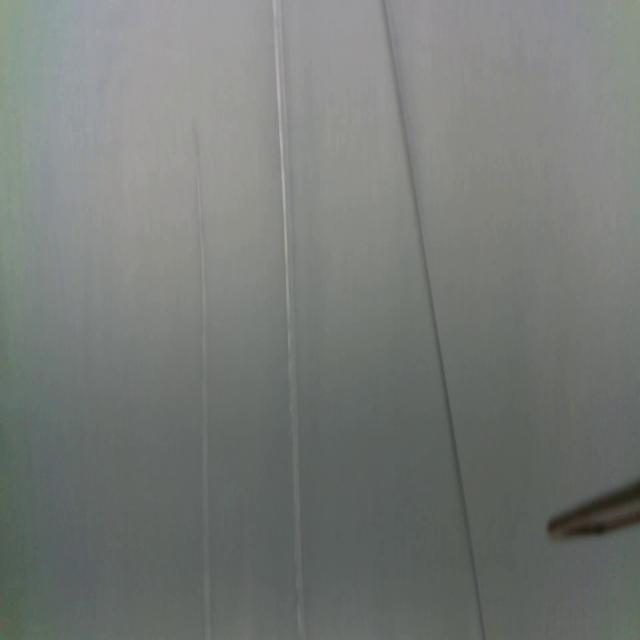crease: (385, 0, 487, 640), (272, 0, 306, 640), (192, 119, 213, 640)
